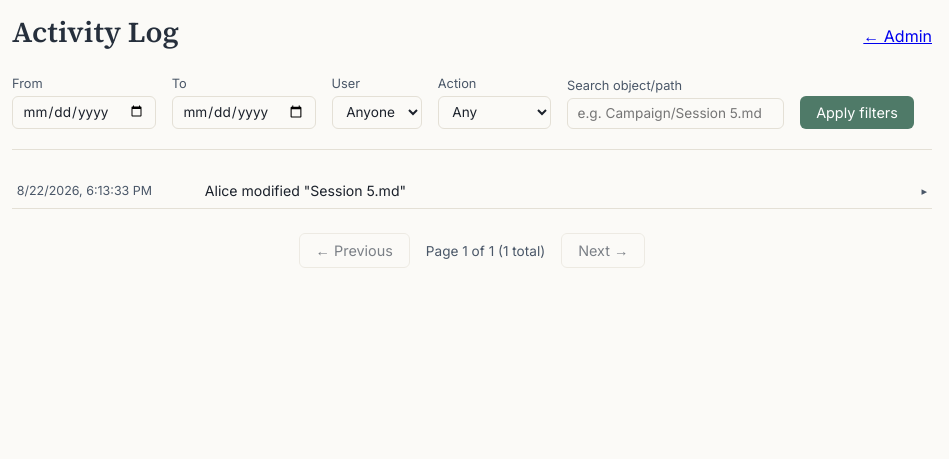
ActivityLogPage › expanding a row loads and shows its details, including the IP address
Click the text "Alice modified \"Session 5.md\"" at (305, 191), box [205,182,406,199]
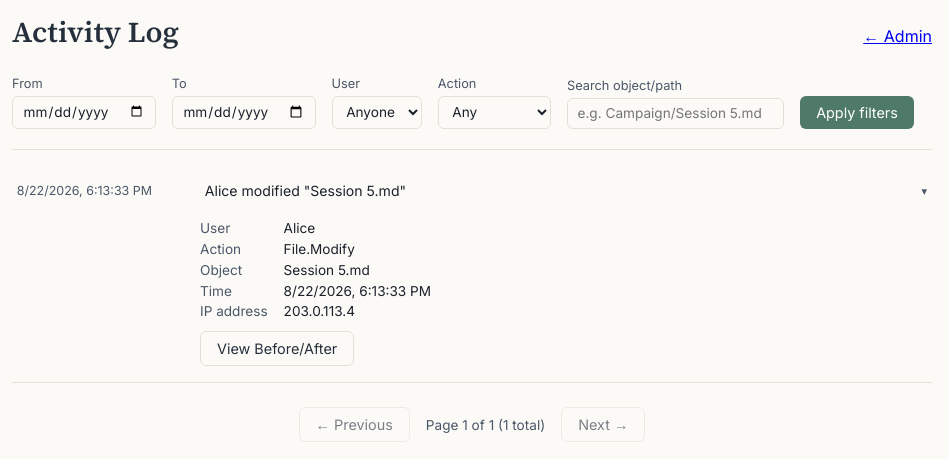
Expected: the text "203.0.113.4" is shown, [284,303,355,319]
